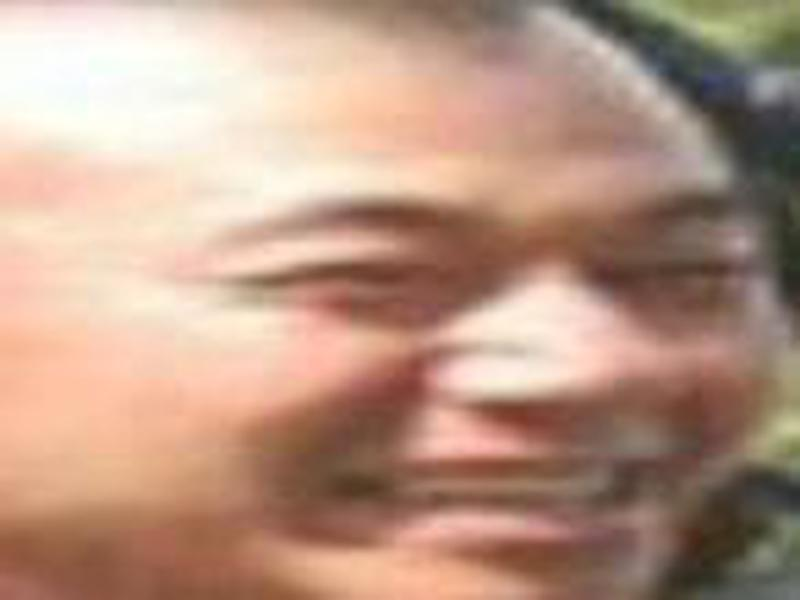without_mask: (2, 4, 789, 600)
